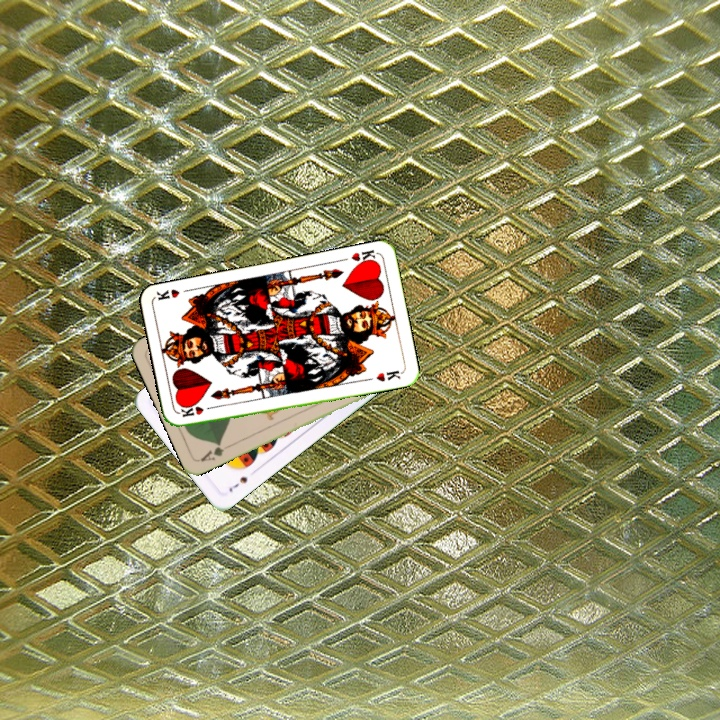GA: (196, 439, 234, 464)
HK: (177, 402, 217, 420), (347, 246, 379, 268)
S7: (225, 473, 251, 494)
